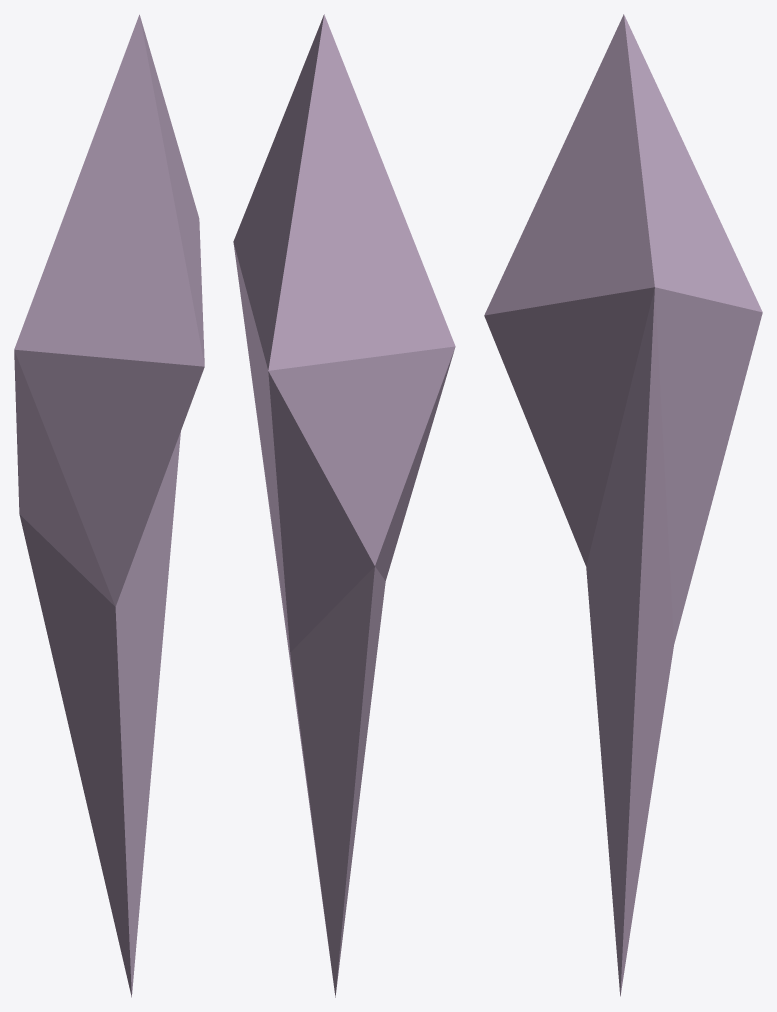
Rendered from CrystalSharp.fbx.
3 views of the same model, side by side, from view 1: azimuth 30°, elevation 25°; view 2: azimuth 150°, elevation 25°; view 3: azimuth 270°, elevation 25° (orthographic).
Parts seen in each view (by area): view 1: CrystalSharp1; view 2: CrystalSharp1; view 3: CrystalSharp1.
Part boxes in pixels (left/top/right/bottom): CrystalSharp1: left=14, top=14, right=204, bottom=997; CrystalSharp1: left=233, top=14, right=455, bottom=997; CrystalSharp1: left=484, top=14, right=762, bottom=996.
Bounding box in the file's own units: 0.6921 × 3.19 × 0.8142.
